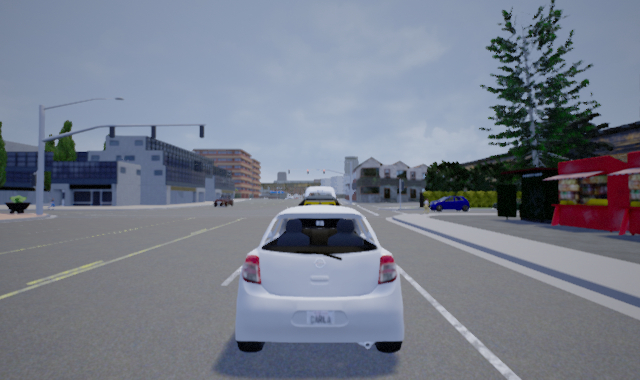vehicle: (231, 204, 404, 353), (298, 194, 341, 228), (429, 196, 470, 212), (305, 185, 336, 202), (212, 194, 233, 206)
